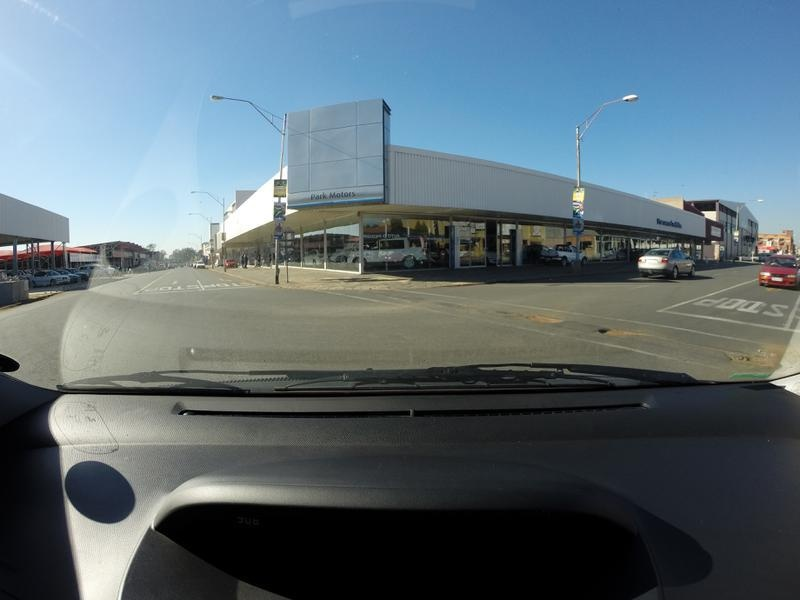pothole: (521, 297, 577, 333), (719, 340, 774, 371), (596, 318, 642, 342)
